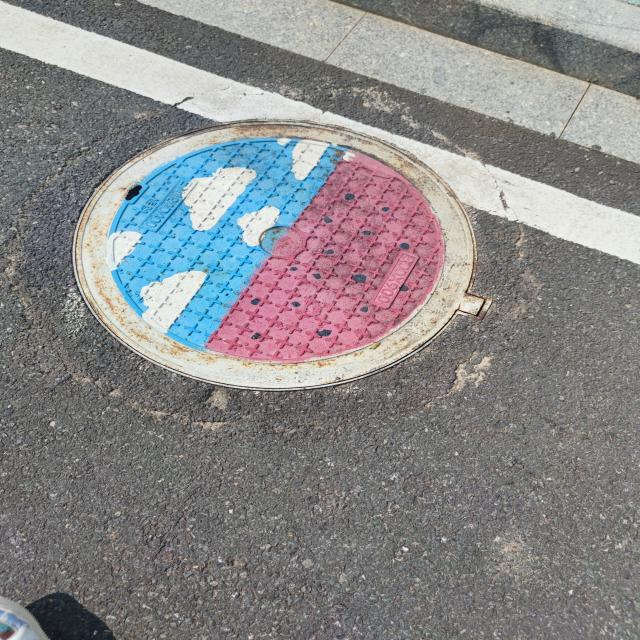Good: (64, 113, 498, 400)
